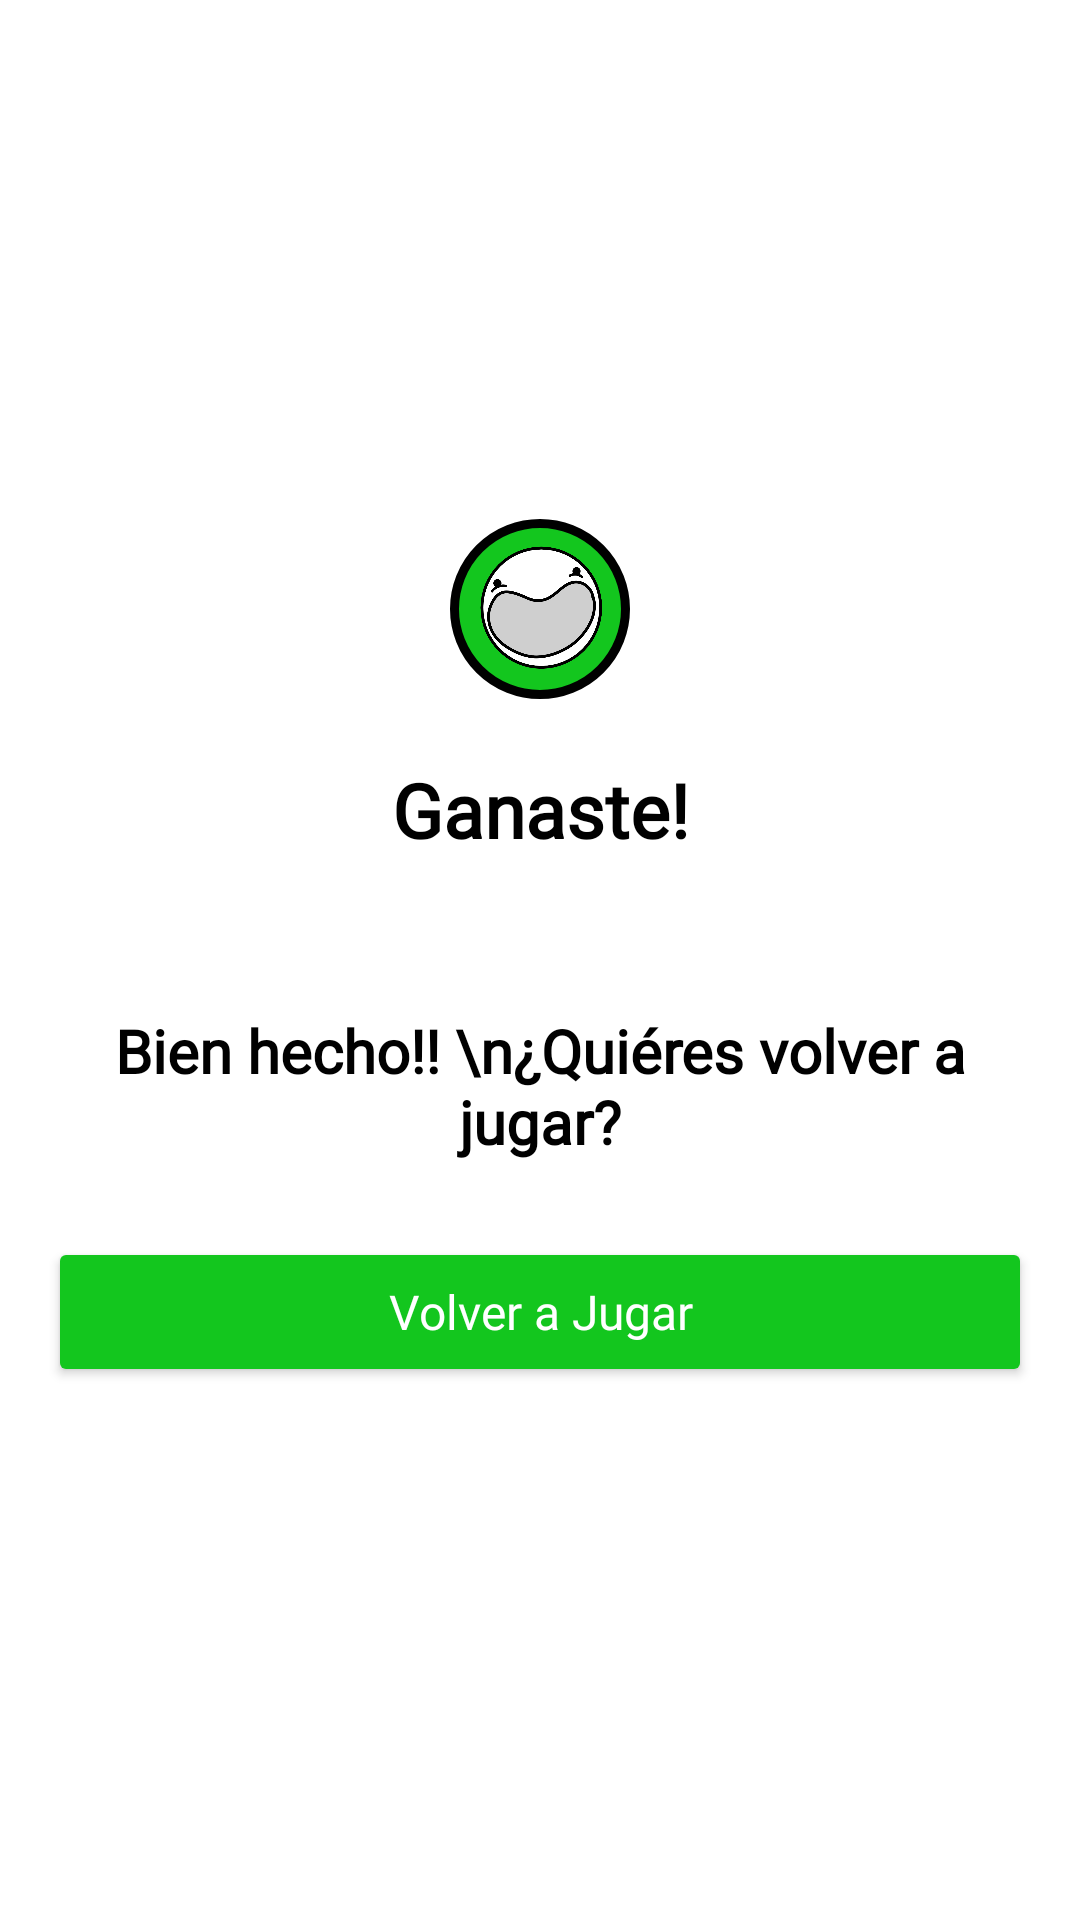

Icon click points for this 1080*1920 phone screenshot, format [x,y]:
hangman face happy: [540,609]
